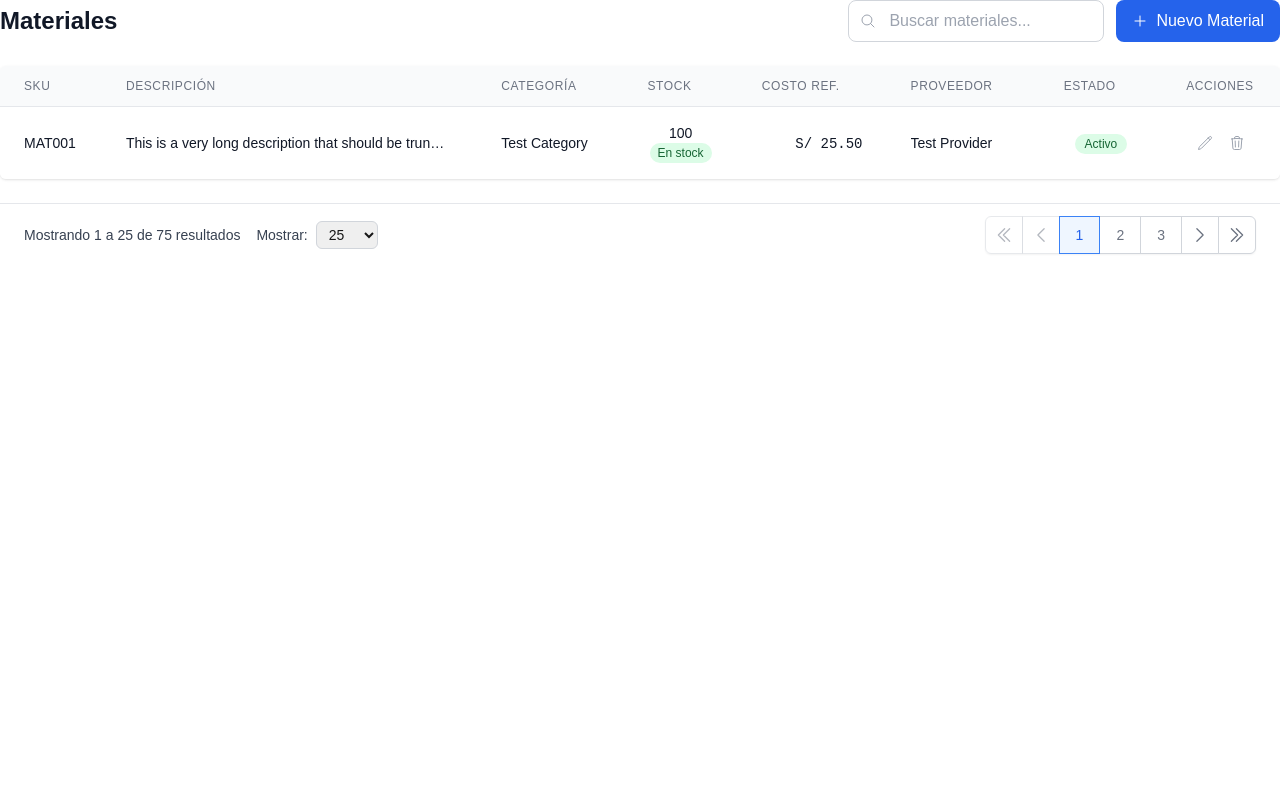
Test: User Interaction Components › Modal Interactions › should close modal when clicking cancel
# Open create modal
Click the button "Nuevo Material" at (1198, 21), box [1116, 0, 1279, 42]
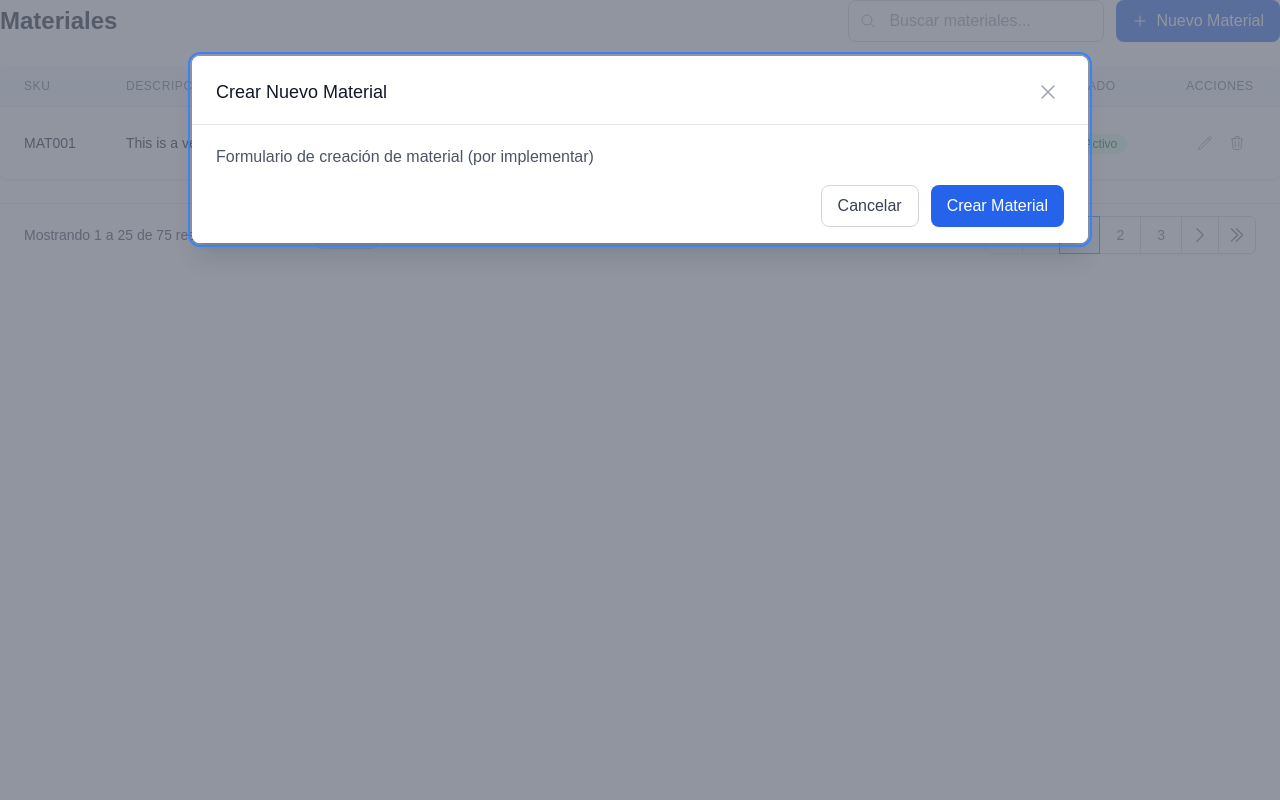
Result: the heading "Crear Nuevo Material" is shown at [216, 78, 395, 106]
# Click cancel
Click the button "Cancelar" at (870, 206), box [821, 185, 919, 227]
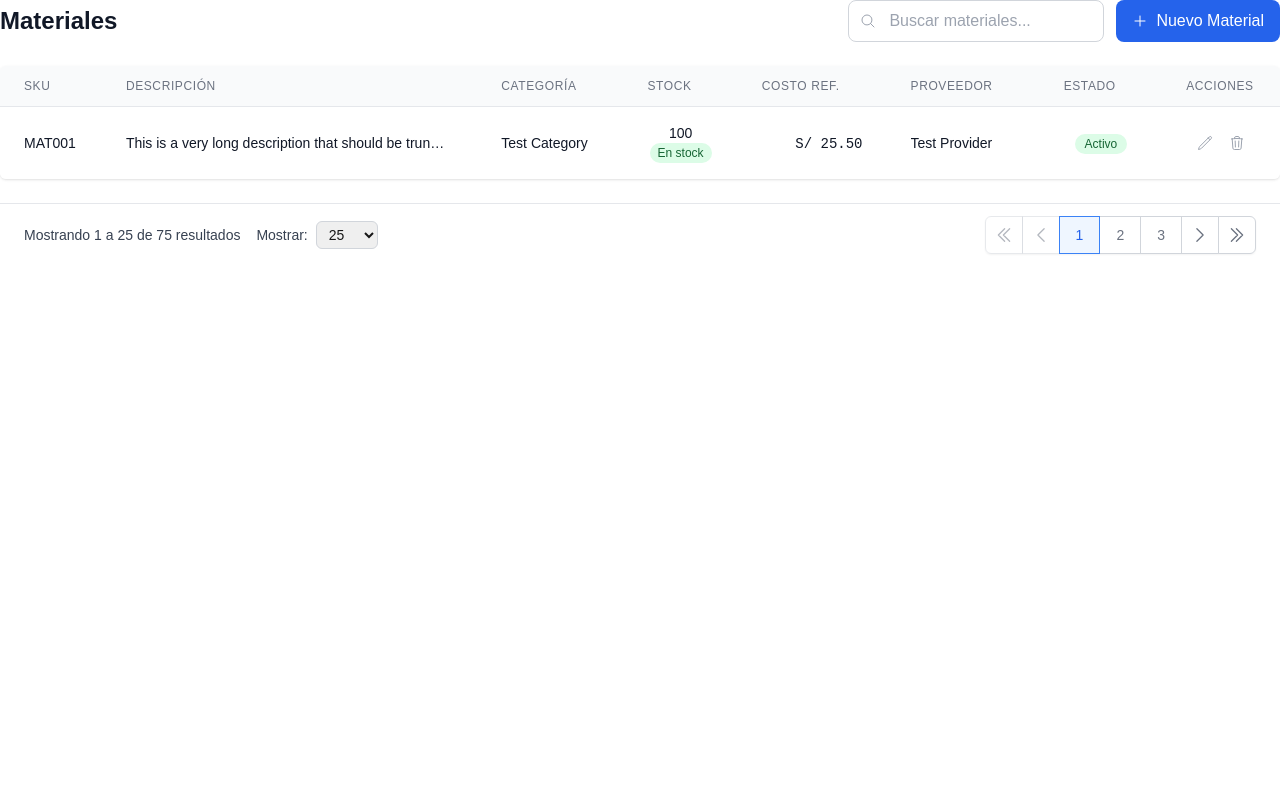
Result: the heading "Crear Nuevo Material" is gone
